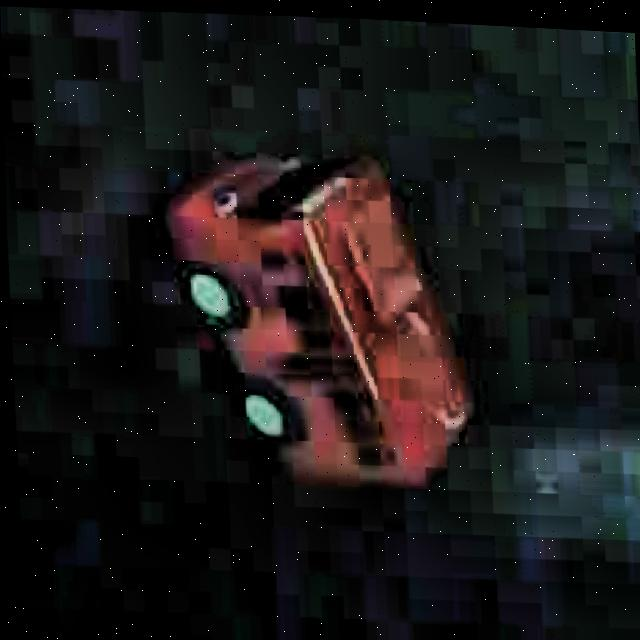bus: (148, 134, 485, 505)
